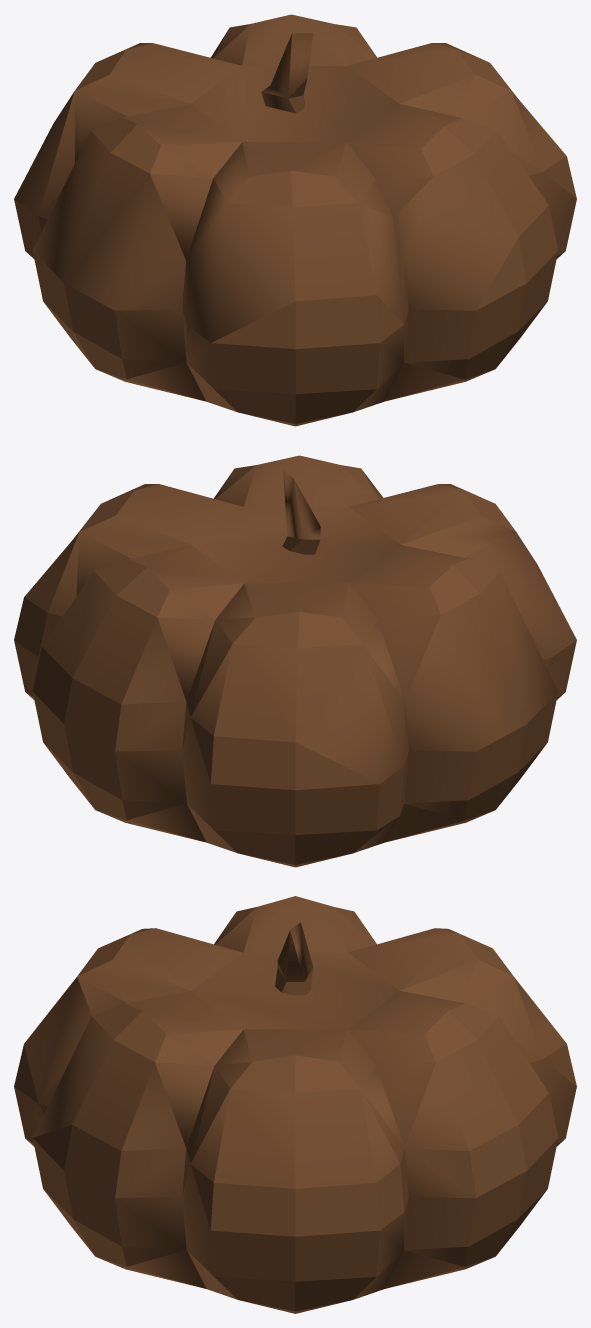
Rendered from cc0-pumpkin-lod1.glb.
The picture shows the model from 3 angles, top to bottom: view 1: azimuth 30°, elevation 25°; view 2: azimuth 150°, elevation 25°; view 3: azimuth 270°, elevation 25°; orthographic projection.
Visible parts, largest first — view 1: part_0; view 2: part_0; view 3: part_0.
Boxes of the visible parts, x1,y1,x2,y2 form: part_0: [14, 14, 576, 426]; part_0: [14, 455, 576, 867]; part_0: [14, 896, 576, 1313].
Size of the model in its own units: 1.5 by 0.9309 by 1.51.
